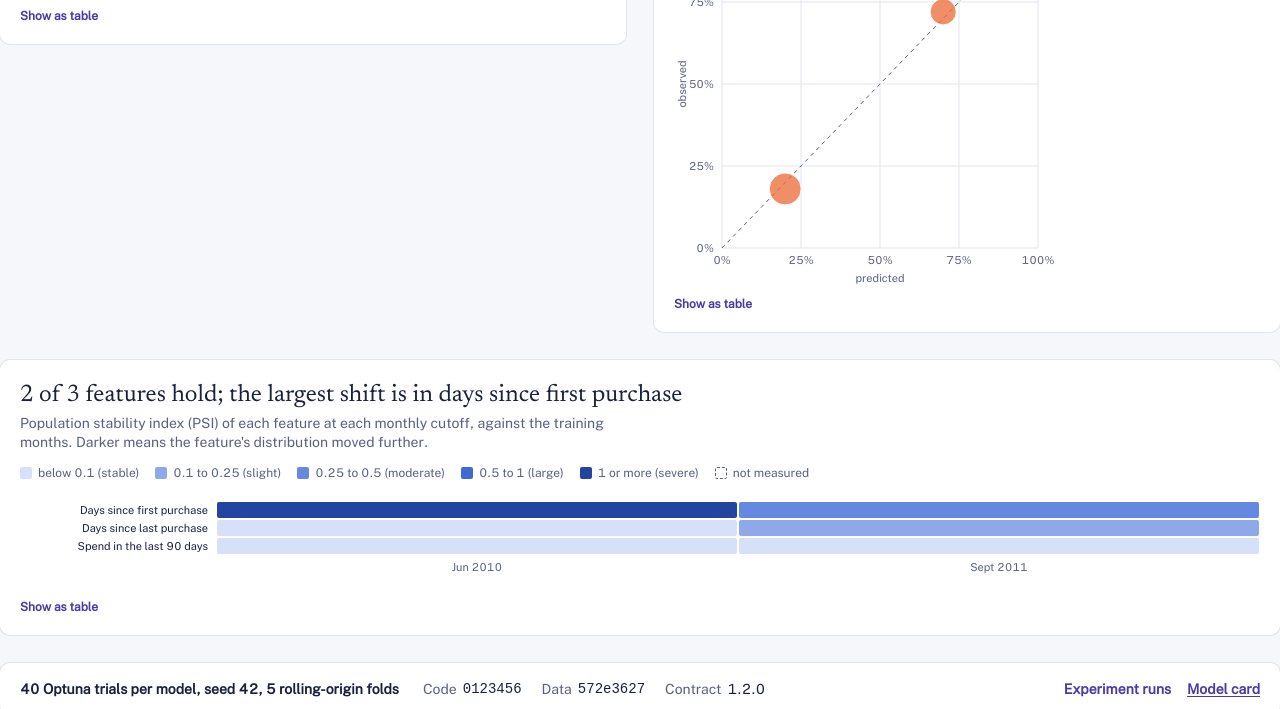
Test: the drift map puts the most shifted feature first and reads as a table
The image size is (1280, 709).
(page scrolled)
Click the button "Show as table" below "Spend in the last 90 days": {"x": 59, "y": 607} [20,599,98,615]
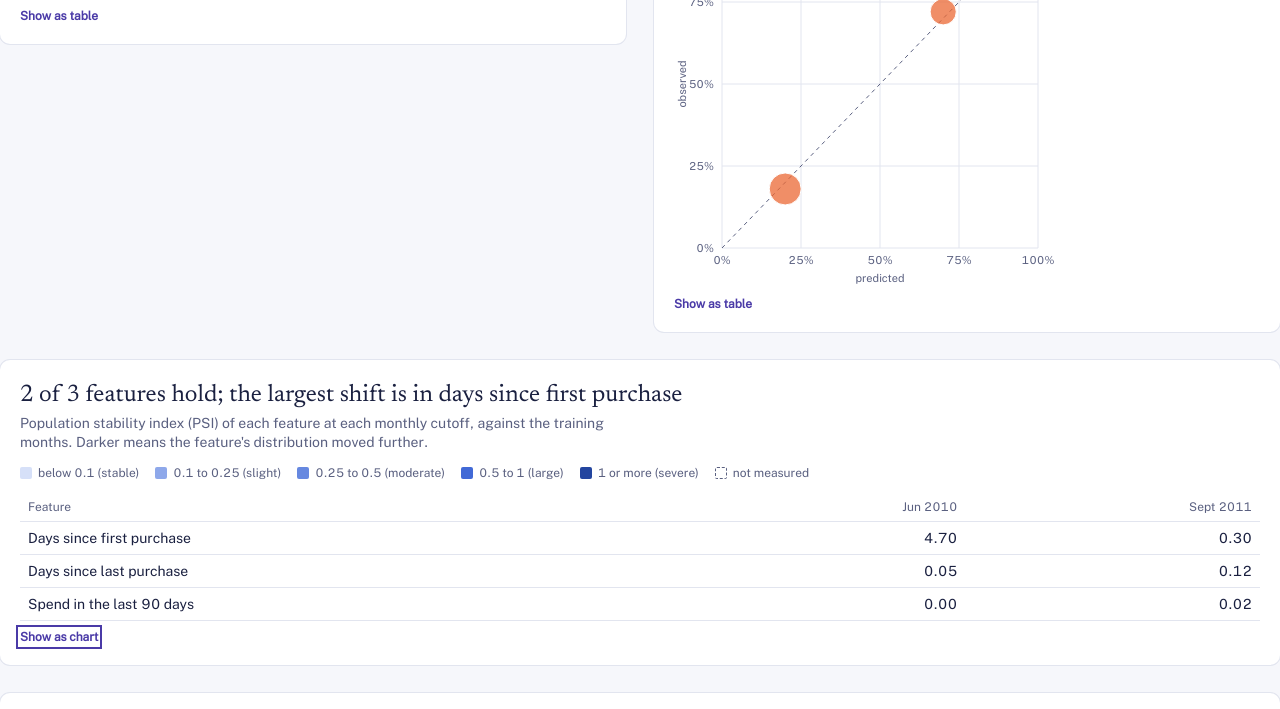
Expected: the row "Feature Jun 2010 Sept 2011" is shown, [20,493,1260,521]
Expected: the row "Days since first purchase 4.70 0.30" is shown, [20,521,1260,554]
